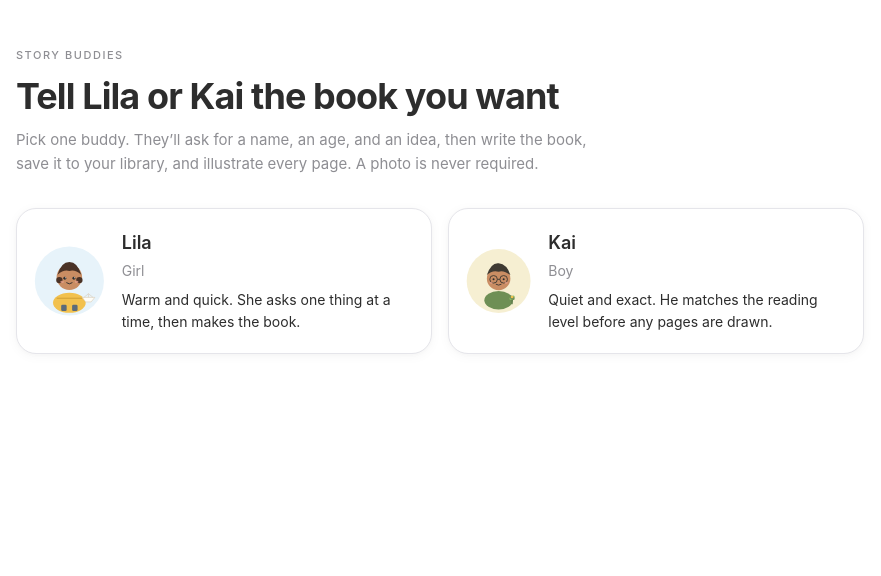
Test: StoryBuddy › opens with Kai’s own greeting
What coordinates should you click on to do the following:
click the button "Kai"
I would click on:
 (499, 281)
Its box is [448,208,864,354].
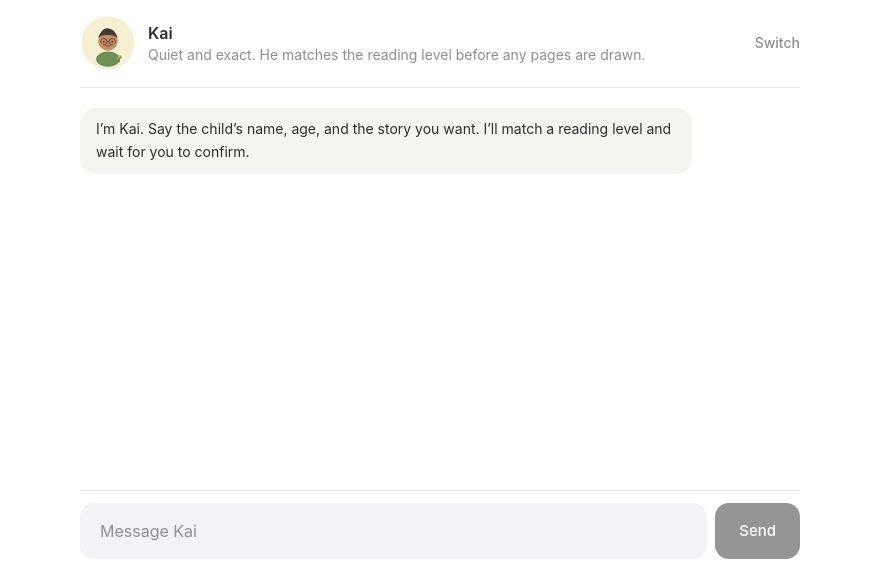
Now the text "I’m Kai" is shown, box [96,120,671,160]
